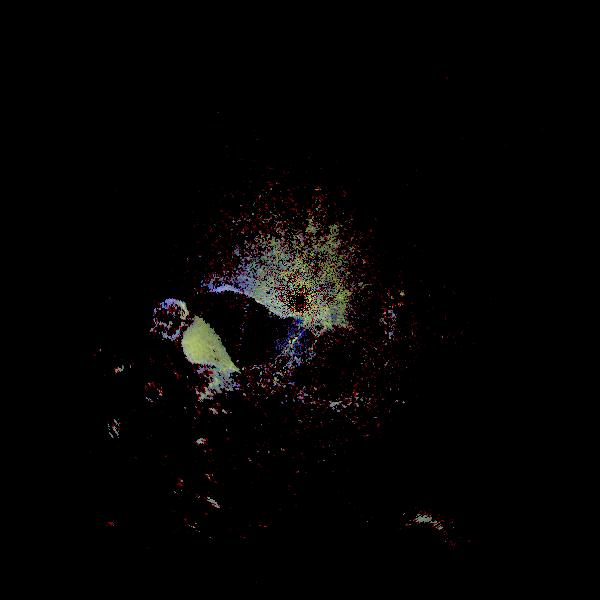roost: (86, 278, 263, 455)
